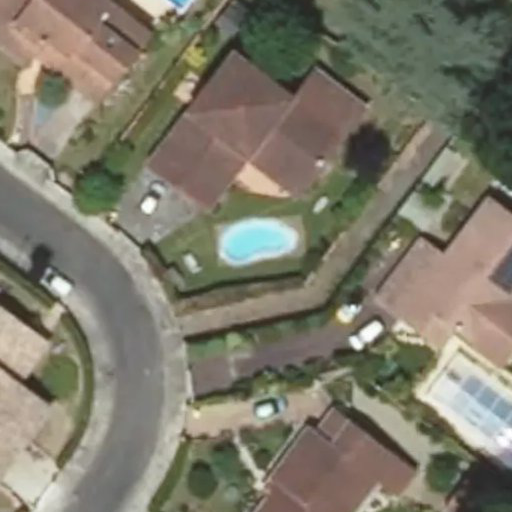pool: (219, 227, 292, 254)
